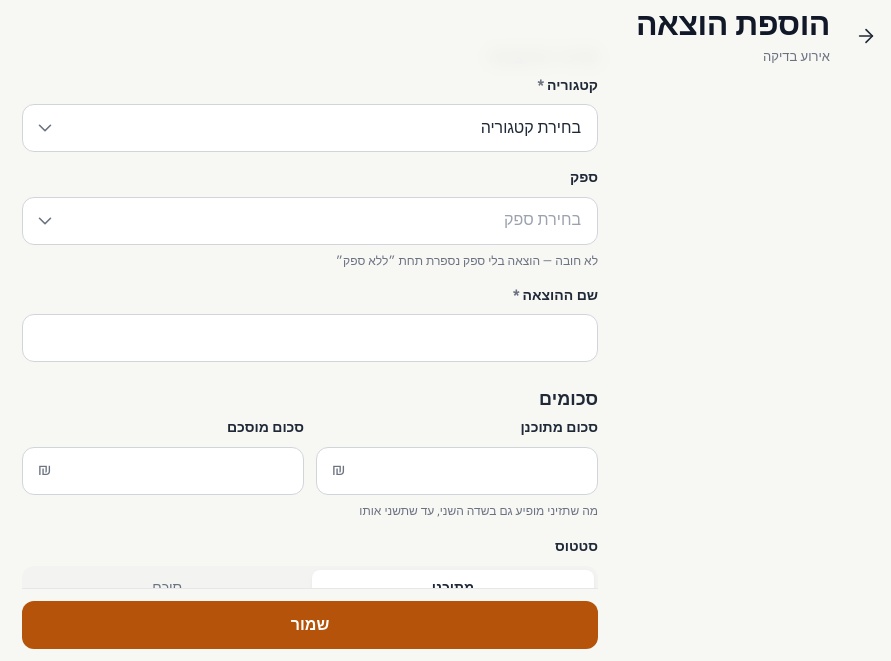
Test: expense amounts — typing one fills the other (user, 2026-09-23) › agreed fills planned when planned is still empty
Type "800" into the field labelled "סכום מוסכם" at (163, 470), box left=22, top=446, right=304, bottom=494
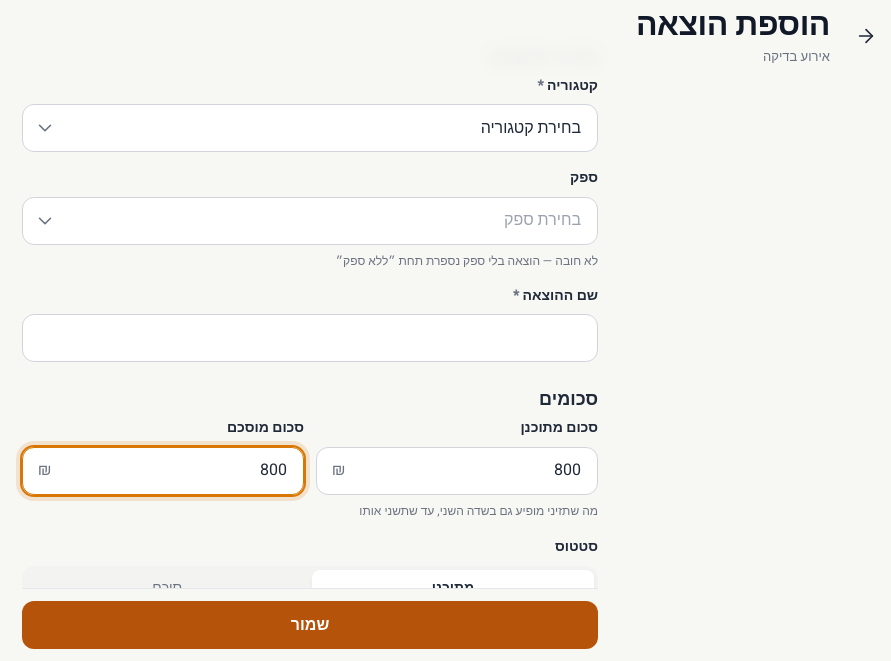
Check: the field labelled "סכום מתוכנן" holds "800", box left=316, top=446, right=598, bottom=494
